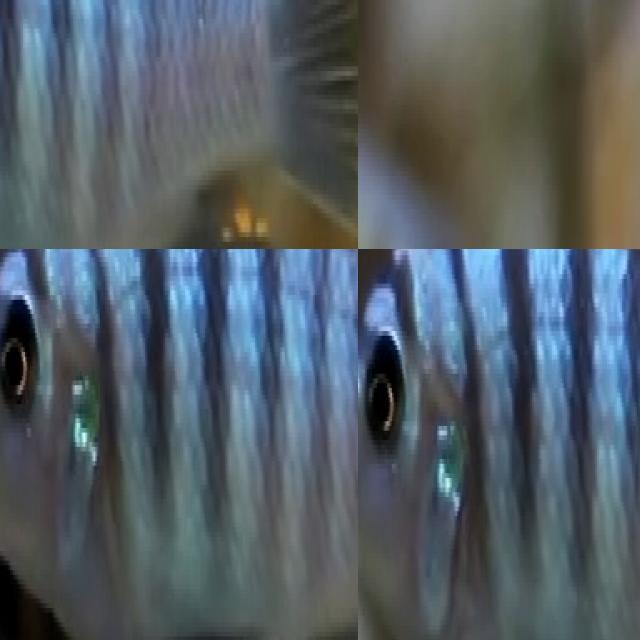fish: (0, 249, 358, 640), (0, 0, 358, 249)
